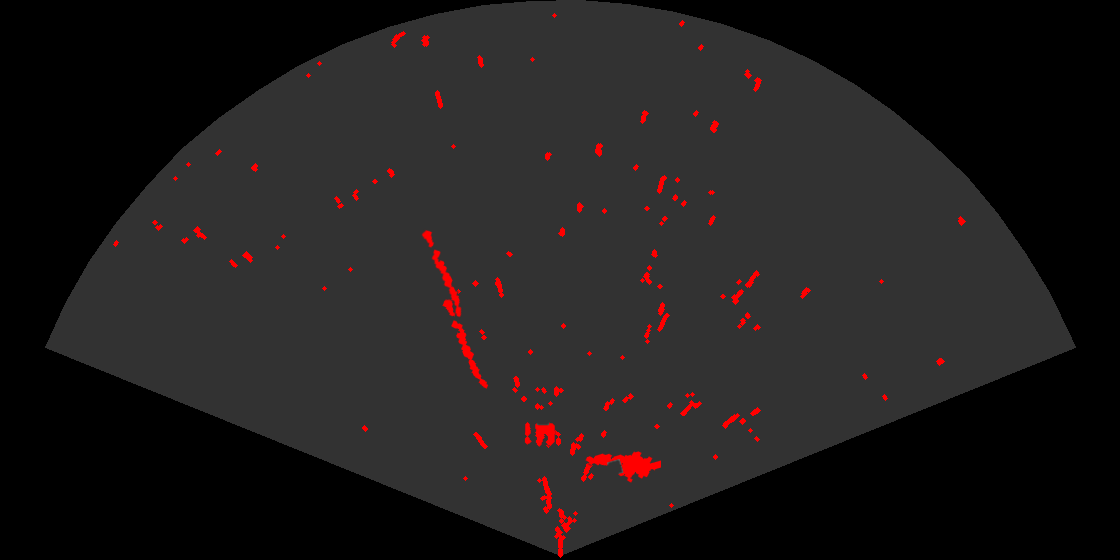ball: (523, 420, 556, 448)
chain: (441, 297, 490, 390), (420, 228, 463, 319)
frogman: (584, 450, 661, 484)
